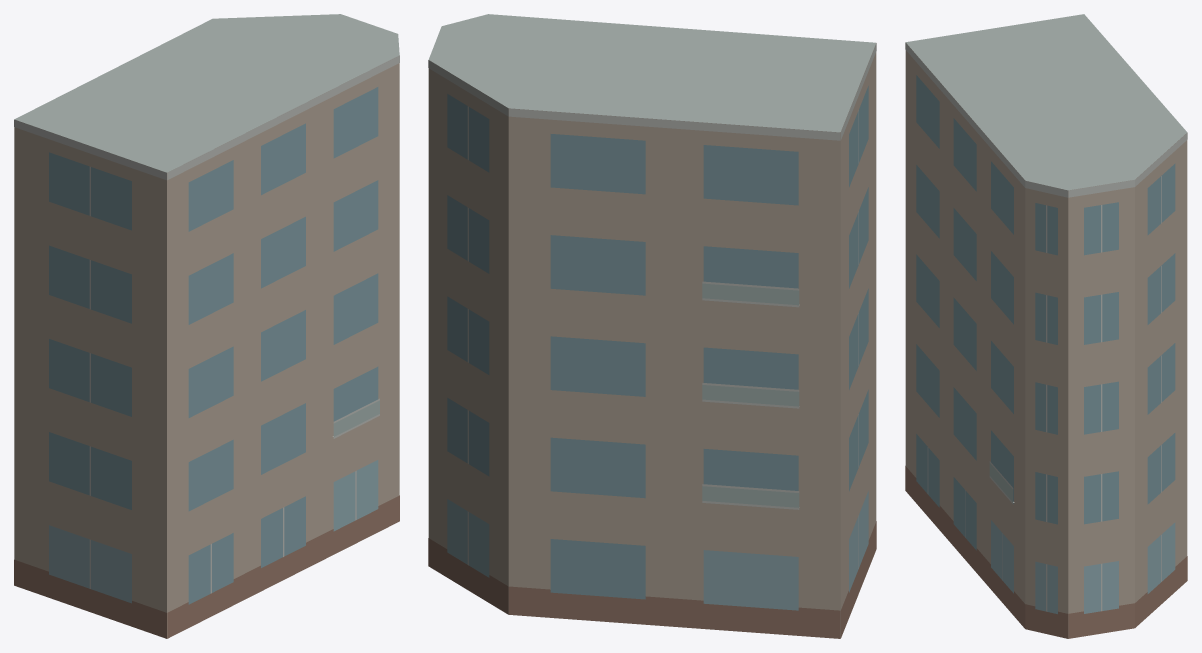
The model's file is survey-upis-32722737.glb.
3 renders of one model, left to right at view 1: azimuth 30°, elevation 25°; view 2: azimuth 150°, elevation 25°; view 3: azimuth 270°, elevation 25°, orthographic. The views are drawn at different scales.
Parts seen in each view (by area): view 1: survey-upis-32722737.tmp; view 2: survey-upis-32722737.tmp; view 3: survey-upis-32722737.tmp.
Boxes of the visible parts, <box> form: survey-upis-32722737.tmp: <box>14,14,399,638</box>; survey-upis-32722737.tmp: <box>428,14,876,638</box>; survey-upis-32722737.tmp: <box>905,14,1187,638</box>.
Size of the model in its own units: 12.53 by 14.85 by 8.47.
